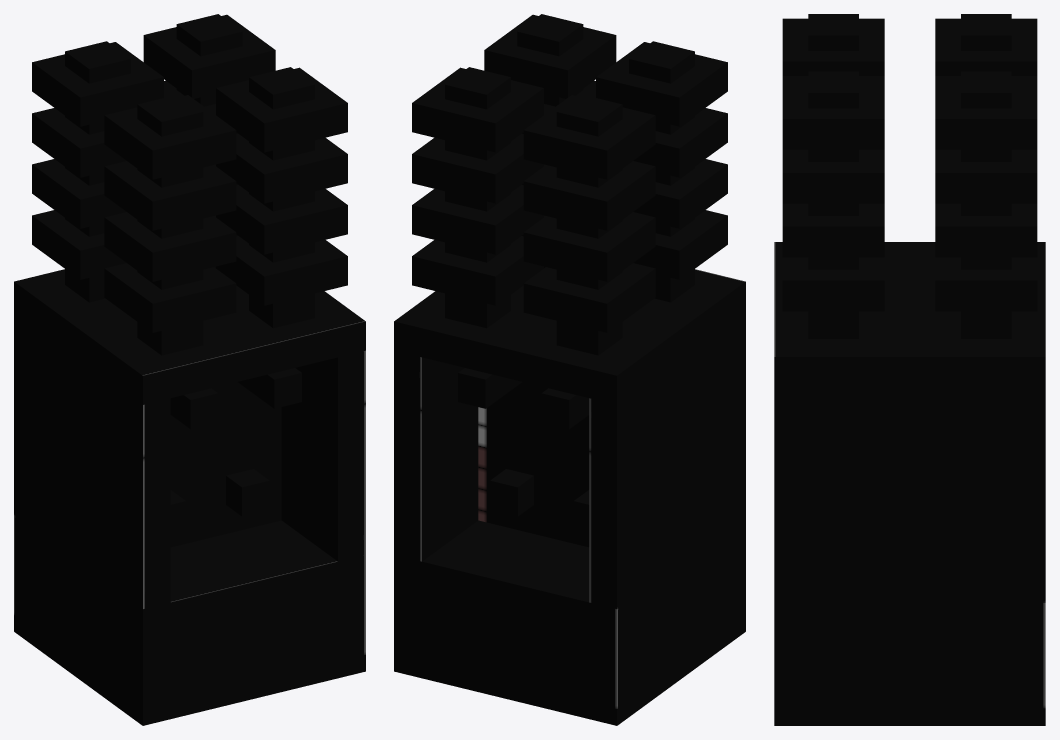
File: export_hv_fuse_main.obj
3 renders of one model, left to right at view 1: azimuth 30°, elevation 25°; view 2: azimuth 150°, elevation 25°; view 3: azimuth 270°, elevation 25°, orthographic. The views are drawn at different scales.
Visible parts, largest first — view 1: mesh, bottom, side2, top, side1, middle; view 2: mesh, bottom, side2, top, side1, middle; view 3: mesh, side1, bottom, top.
Part boxes in pixels (box(x1,y1,x2,y2)): mesh: box(32, 14, 347, 533); bottom: box(14, 515, 365, 725); side2: box(14, 311, 170, 608); top: box(14, 269, 365, 404); side1: box(281, 350, 365, 561); middle: box(170, 382, 281, 547); mesh: box(412, 14, 727, 533); bottom: box(394, 515, 745, 725); side2: box(589, 311, 745, 608); top: box(394, 269, 745, 404); side1: box(394, 350, 478, 561); middle: box(478, 382, 589, 547); mesh: box(782, 14, 1037, 338); side1: box(774, 387, 1045, 602); bottom: box(774, 603, 1045, 725); top: box(774, 242, 1045, 387).
Bounding box in the file's own units: 2 × 5 × 2.
1 material, 1 textured.
